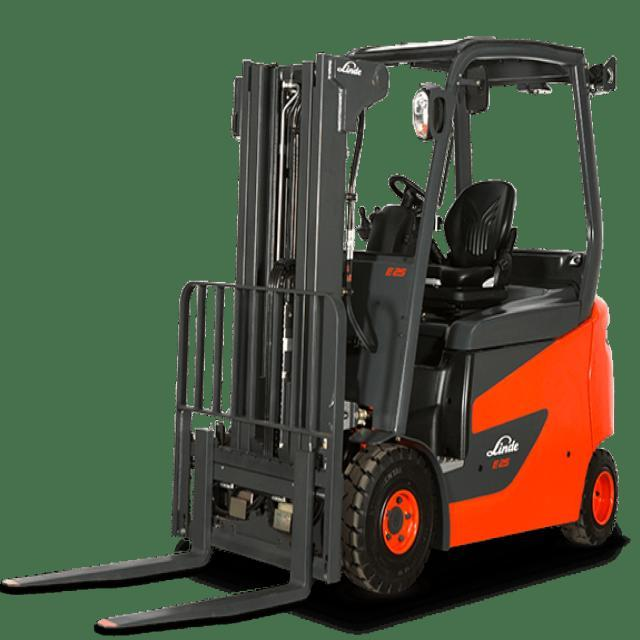forklift: (151, 26, 624, 620)
